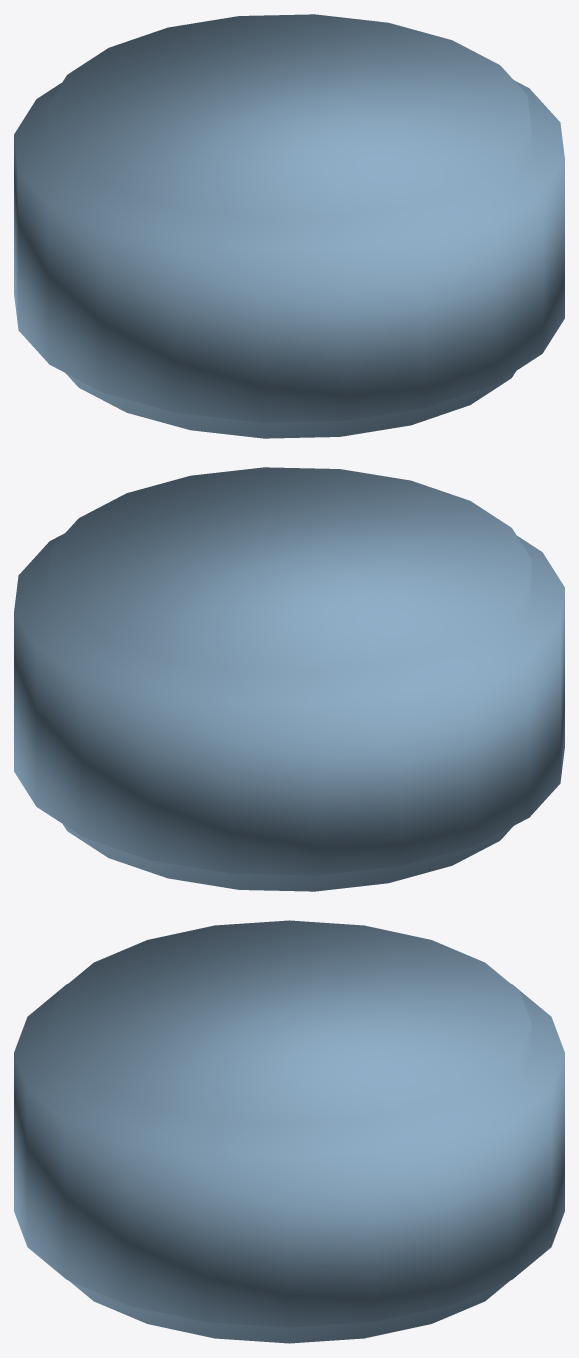
File: hub_motor_can.glb
3 views of the same model, one above another, from view 1: azimuth 30°, elevation 25°; view 2: azimuth 150°, elevation 25°; view 3: azimuth 270°, elevation 25° (orthographic).
Visible parts, largest first — view 1: hub_motor_can; view 2: hub_motor_can; view 3: hub_motor_can.
Part boxes in pixels (left/top/right/bottom): hub_motor_can: left=14, top=14, right=564, bottom=438; hub_motor_can: left=14, top=467, right=564, bottom=891; hub_motor_can: left=14, top=920, right=564, bottom=1343.
Size of the model in its own units: 0.32 by 0.14 by 0.32.
